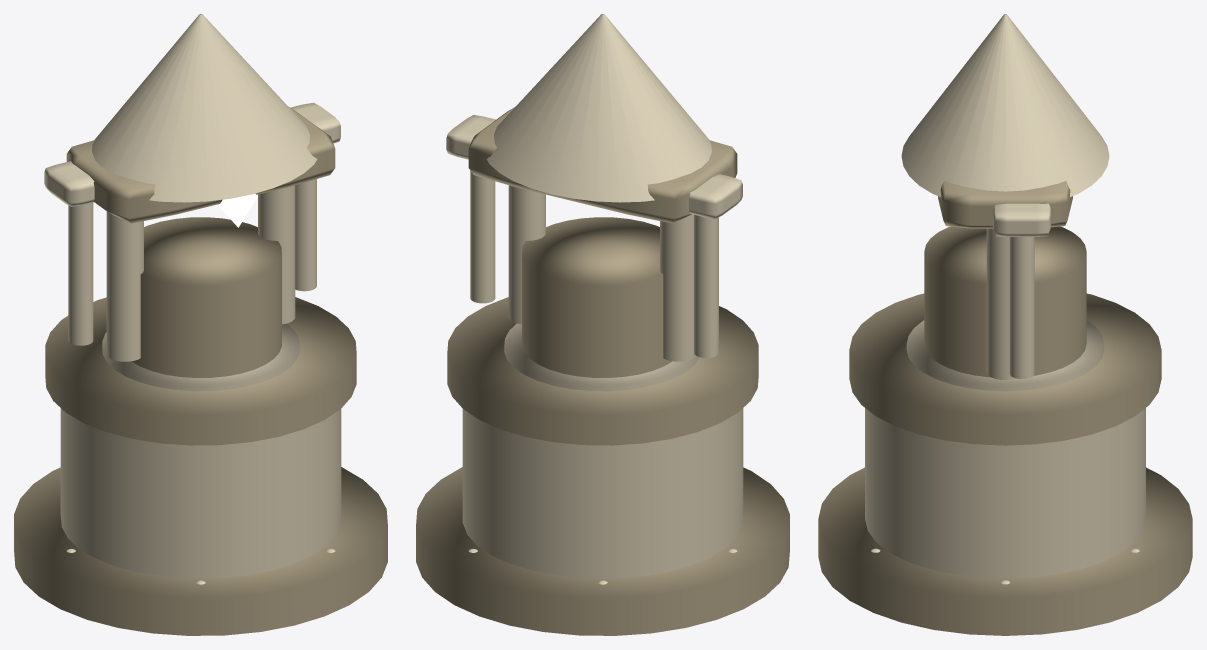
Rendered from temple_l5.glb.
3 renders of one model, left to right at view 1: azimuth 30°, elevation 25°; view 2: azimuth 150°, elevation 25°; view 3: azimuth 270°, elevation 25°, orthographic.
Visible parts, largest first — view 1: base, footing, roof, baseCollar, shaft, pillar (×2), lintel, OuterPillar-1, lowerTrim, OuterPillar1, PillarCapital-1, PillarCapital1 (+1 smaller); view 2: base, footing, roof, baseCollar, shaft, pillar (×2), lintel, OuterPillar-1, lowerTrim, OuterPillar1, PillarCapital-1, PillarCapital1; view 3: base, footing, baseCollar, roof, shaft, lowerTrim, lintel, OuterPillar1, pillar, PillarCapital1.
Boxes of the visible parts, bbox=[...] form: base: bbox=[60, 408, 341, 578]; footing: bbox=[14, 467, 387, 635]; roof: bbox=[92, 14, 317, 202]; baseCollar: bbox=[45, 297, 356, 445]; shaft: bbox=[132, 217, 281, 377]; pillar (×2): bbox=[106, 185, 295, 361]; lintel: bbox=[66, 107, 335, 223]; OuterPillar-1: bbox=[68, 202, 93, 345]; lowerTrim: bbox=[102, 323, 299, 391]; OuterPillar1: bbox=[295, 179, 316, 291]; PillarCapital-1: bbox=[44, 161, 94, 206]; PillarCapital1: bbox=[290, 102, 340, 143]; base: bbox=[462, 408, 743, 578]; footing: bbox=[416, 467, 789, 635]; roof: bbox=[486, 14, 711, 202]; baseCollar: bbox=[447, 297, 758, 445]; shaft: bbox=[522, 217, 671, 377]; pillar (×2): bbox=[508, 185, 696, 361]; lintel: bbox=[468, 107, 737, 223]; OuterPillar-1: bbox=[694, 214, 718, 357]; lowerTrim: bbox=[504, 323, 699, 391]; OuterPillar1: bbox=[470, 171, 495, 303]; PillarCapital-1: bbox=[689, 174, 742, 218]; PillarCapital1: bbox=[446, 115, 495, 159]; base: bbox=[865, 408, 1145, 578]; footing: bbox=[818, 467, 1192, 635]; baseCollar: bbox=[849, 293, 1161, 445]; roof: bbox=[901, 14, 1109, 196]; shaft: bbox=[924, 226, 1086, 377]; lowerTrim: bbox=[906, 320, 1104, 391]; lintel: bbox=[938, 180, 1072, 228]; OuterPillar1: bbox=[1009, 237, 1034, 378]; pillar: bbox=[986, 228, 1015, 380]; PillarCapital1: bbox=[993, 203, 1051, 236].
Bounding box in the file's own units: 1.8 × 2.88 × 1.8.
